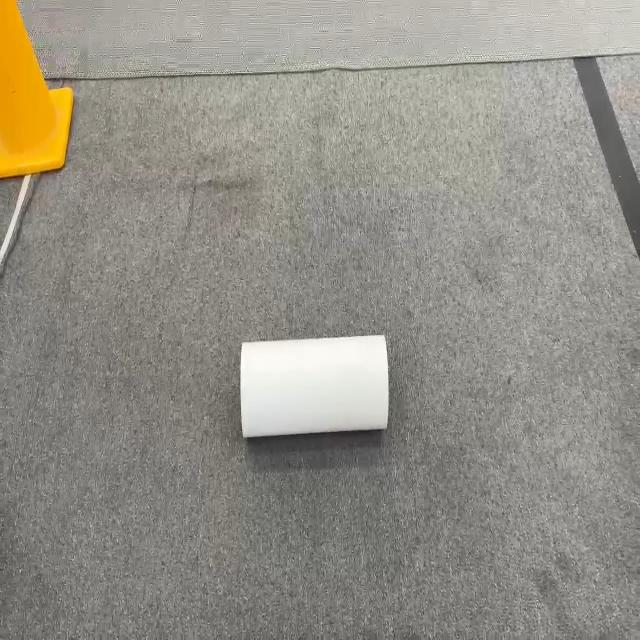coral: (239, 333, 389, 439)
